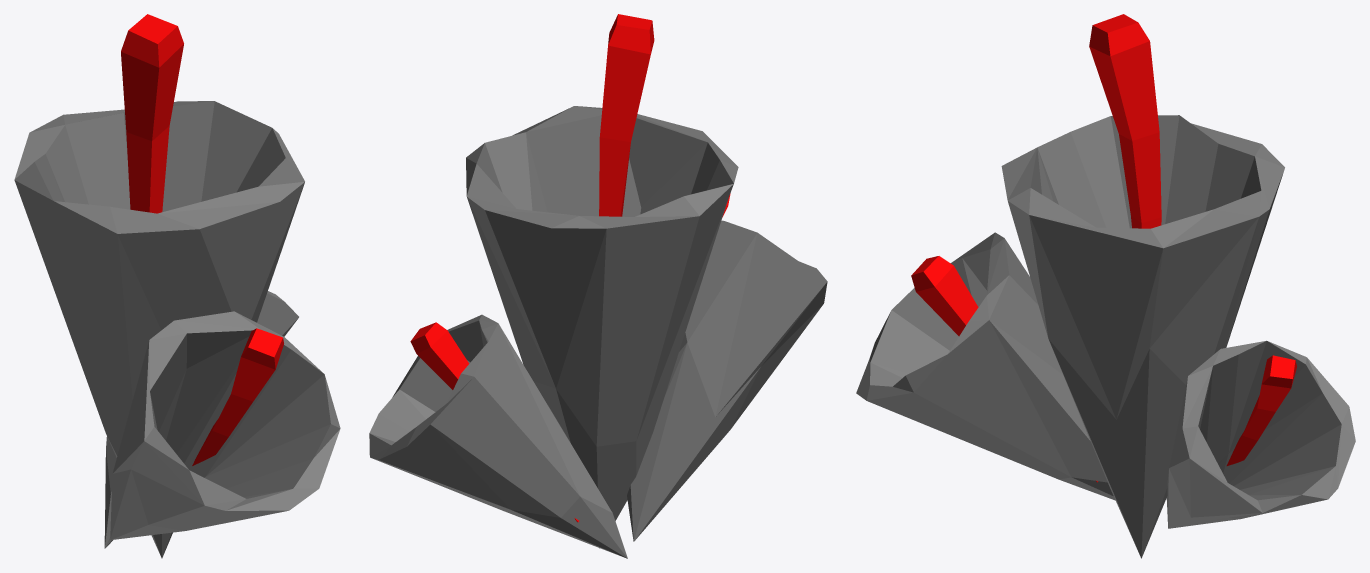
File: FungiCone02.fbx
The picture shows the model from 3 angles, left to right: view 1: azimuth 30°, elevation 25°; view 2: azimuth 150°, elevation 25°; view 3: azimuth 270°, elevation 25°; orthographic projection. The views are drawn at different scales.
Parts seen in each view (by area): view 1: FungiCone02; view 2: FungiCone02; view 3: FungiCone02.
Boxes of the visible parts, x1=… form: FungiCone02: x1=14, y1=14, x2=340, y2=558; FungiCone02: x1=369, y1=14, x2=827, y2=558; FungiCone02: x1=856, y1=14, x2=1355, y2=558.
Size of the model in its own units: 31.35 by 54.89 by 47.
